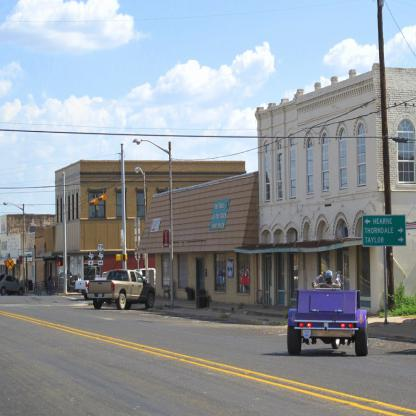Truck: (286, 289, 372, 358), (81, 268, 155, 312)
